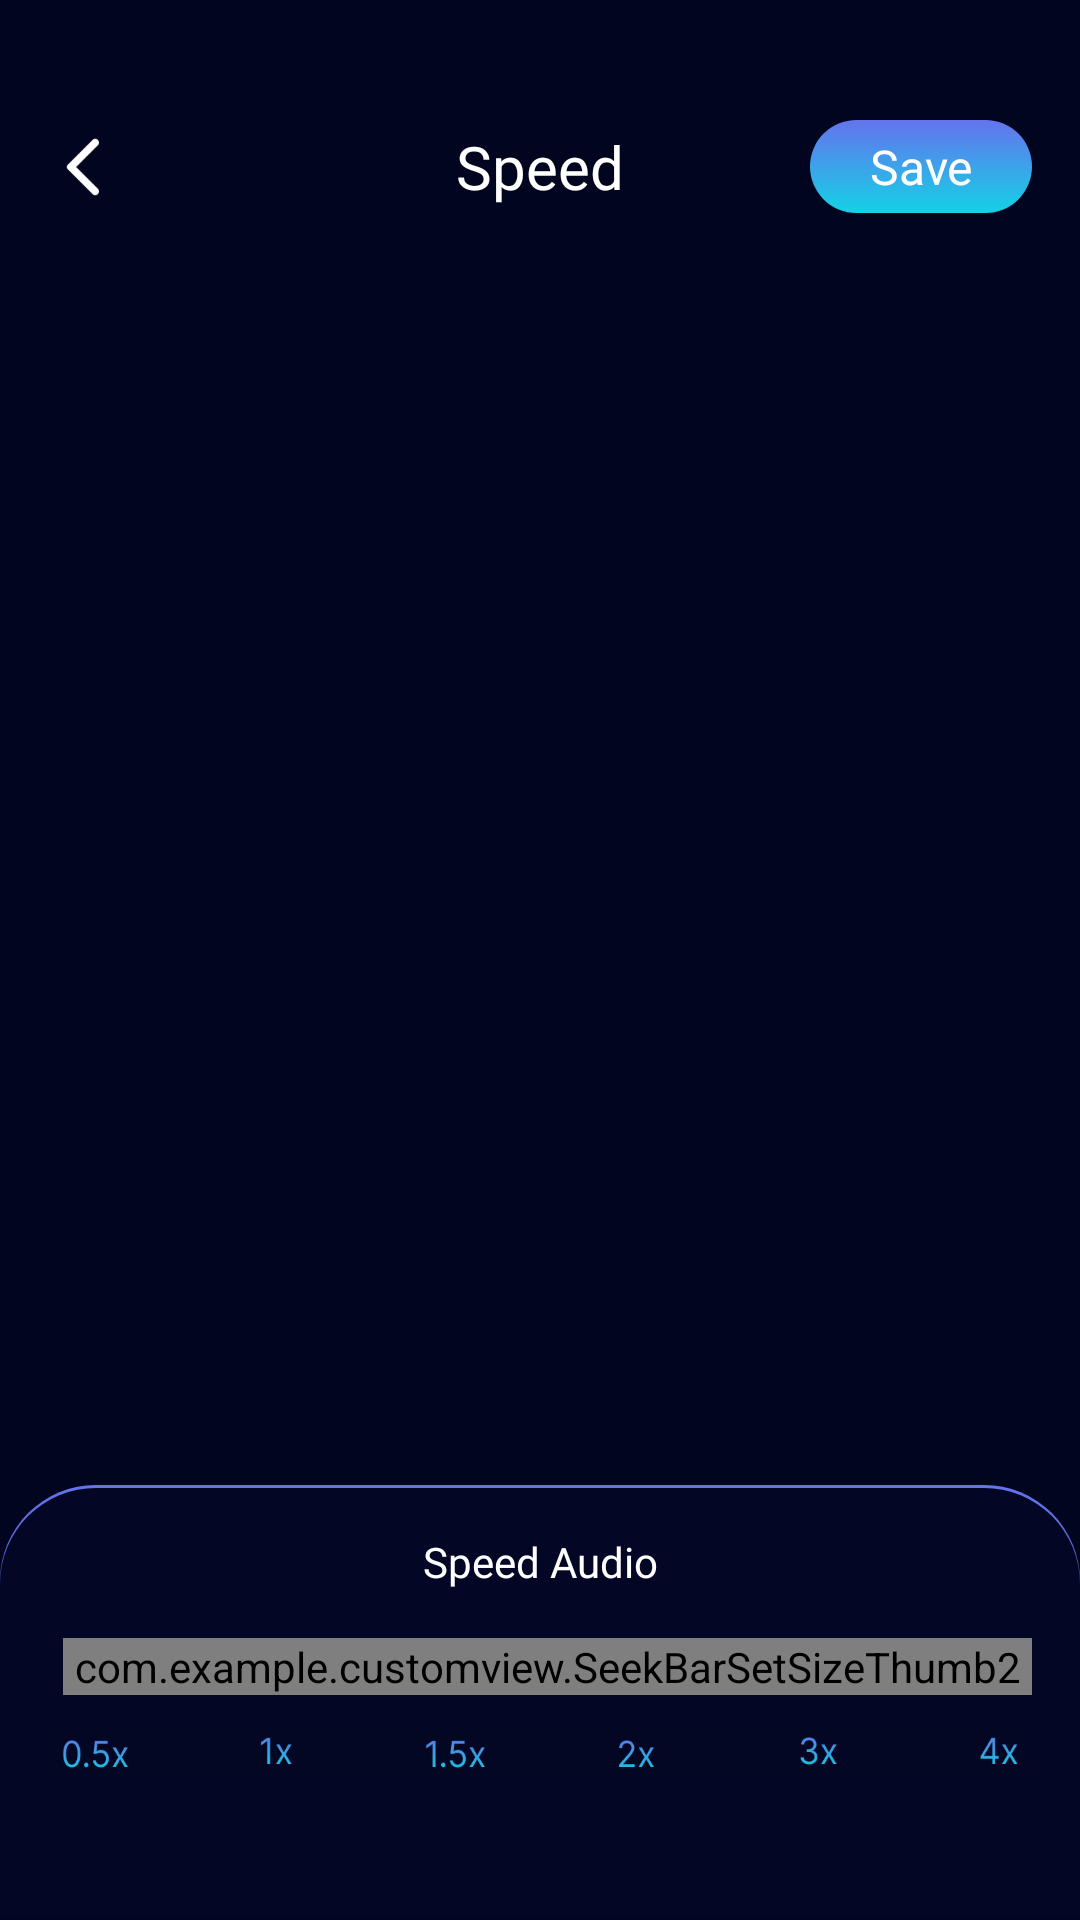

Icon click points for this 1080w x 1920h phone screenshot, format (x,y):
back: (82,167)
